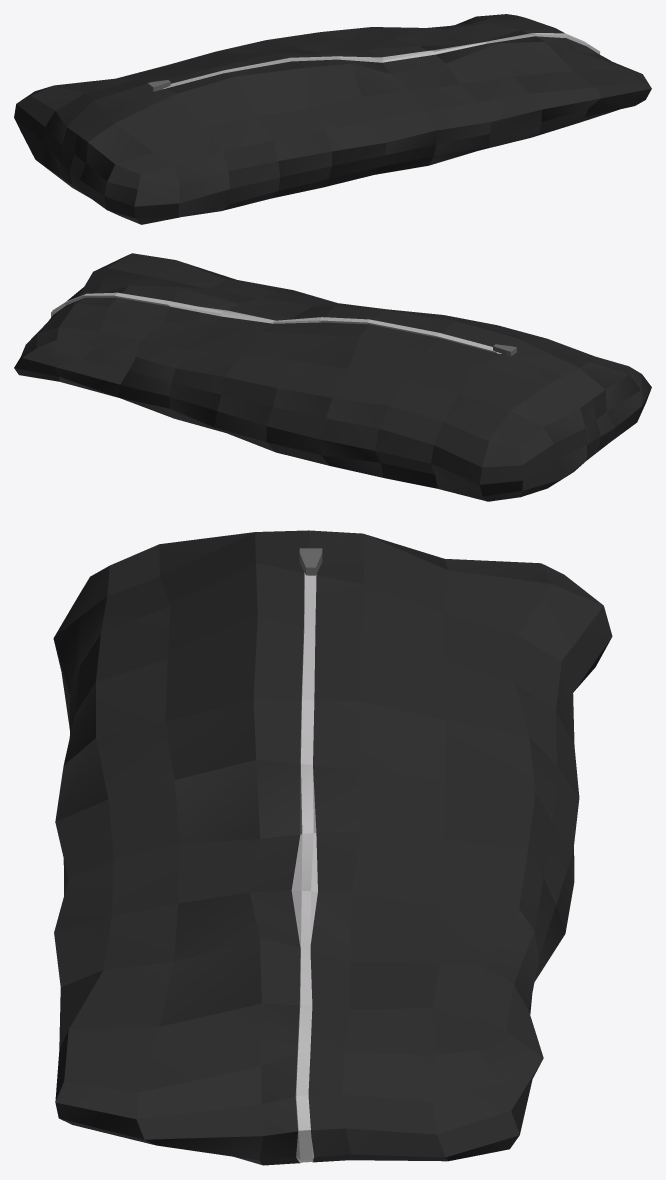
The model's file is SM_DeadBody_01.gltf.
The picture shows the model from 3 angles, top to bottom: view 1: azimuth 30°, elevation 25°; view 2: azimuth 150°, elevation 25°; view 3: azimuth 270°, elevation 25°; orthographic projection. The views are drawn at different scales.
Visible parts, largest first — view 1: SM_DeadBody_01; view 2: SM_DeadBody_01; view 3: SM_DeadBody_01.
Part boxes in pixels (bbox=[...]): SM_DeadBody_01: bbox=[14, 14, 651, 224]; SM_DeadBody_01: bbox=[14, 253, 651, 501]; SM_DeadBody_01: bbox=[53, 530, 612, 1165].
Size of the model in its own units: 2.32 by 0.469 by 1.05.
1 material, 1 textured.
